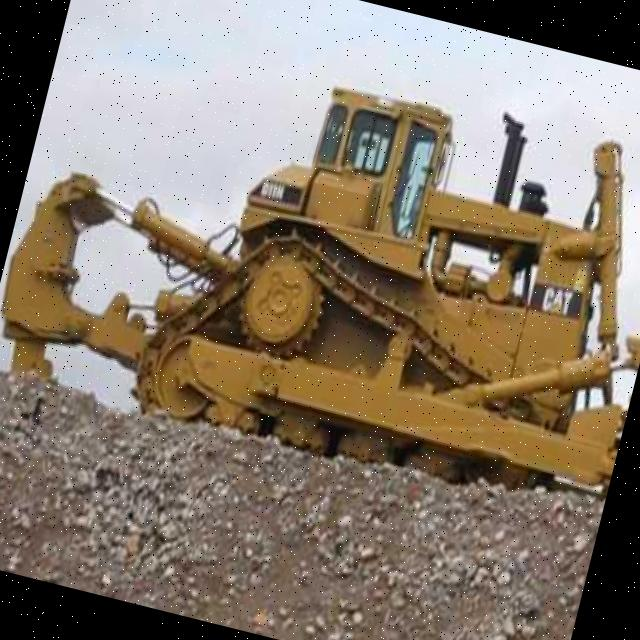Bulldozer: (0, 0, 640, 547)
